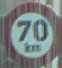Speed limit: (4, 3, 56, 59)
